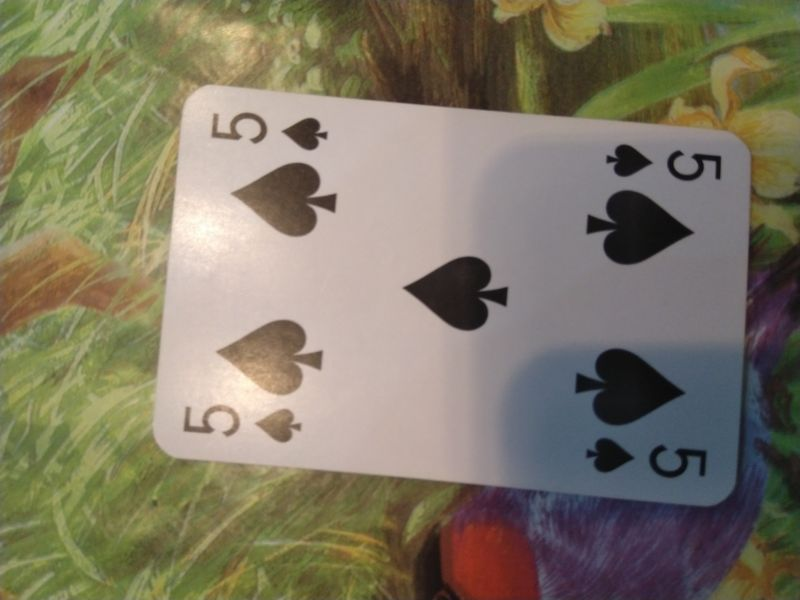5s: (571, 427, 715, 486), (588, 135, 731, 190), (201, 103, 333, 157), (176, 398, 307, 449)
